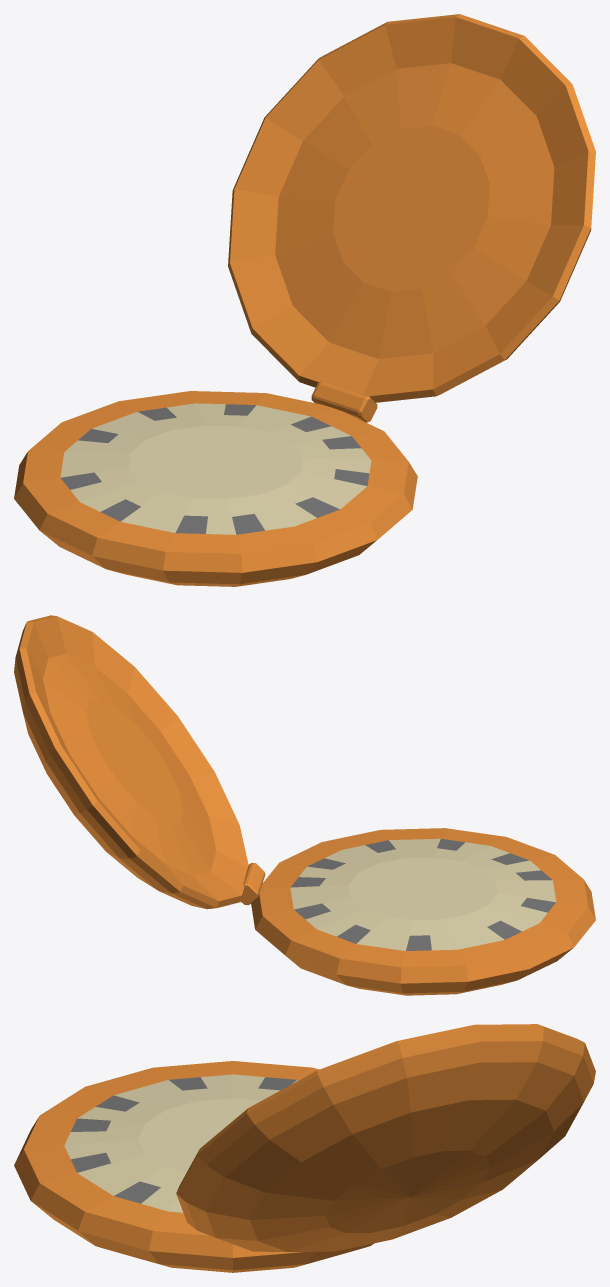
Rendered from clock.fbx.
3 views of the same model, one above another, from view 1: azimuth 30°, elevation 25°; view 2: azimuth 150°, elevation 25°; view 3: azimuth 270°, elevation 25° (orthographic). The views are drawn at different scales.
Parts seen in each view (by area): view 1: Sphere.001, Sphere, Cube; view 2: Sphere, Sphere.001, Cube; view 3: Sphere.001, Sphere.
Part boxes in pixels (box(x1,y1,x2,y2)): Sphere.001: box(228, 14, 595, 402); Sphere: box(14, 391, 417, 586); Cube: box(311, 381, 377, 422); Sphere: box(251, 828, 595, 995); Sphere.001: box(14, 615, 248, 909); Cube: box(241, 862, 265, 905); Sphere.001: box(176, 1024, 595, 1251); Sphere: box(14, 1061, 374, 1272).
Size of the model in its own units: 314 by 188 by 256.
